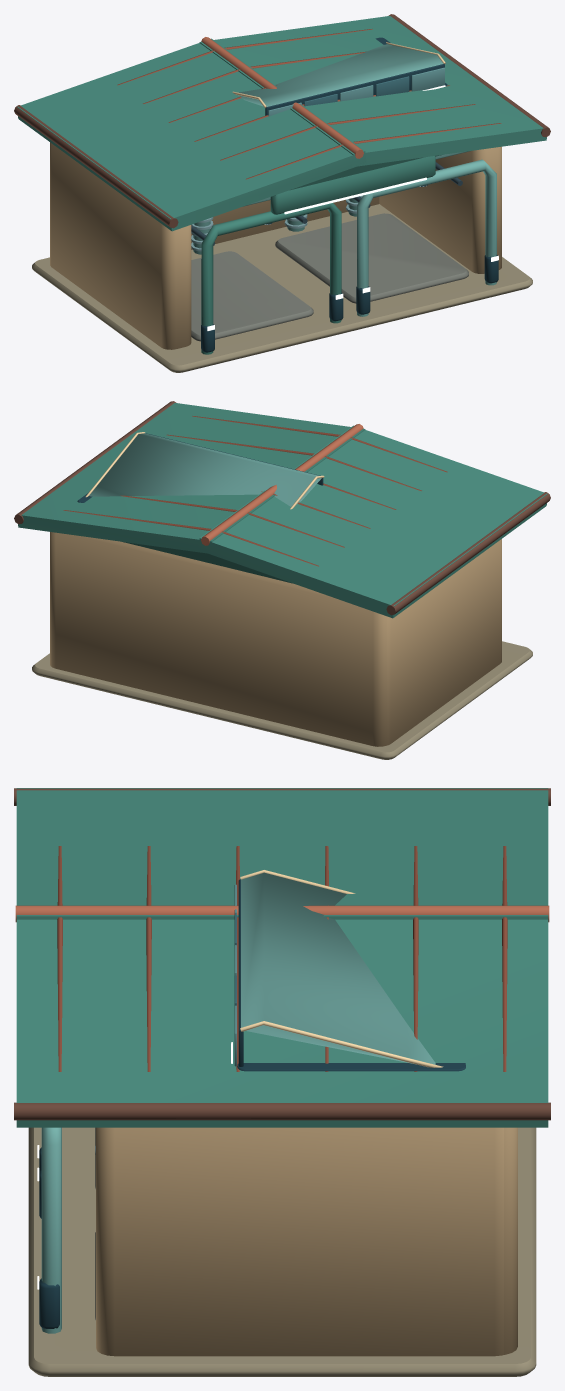
Rendered from tropical_wash.glb.
3 renders of one model, top to bottom at view 1: azimuth 30°, elevation 25°; view 2: azimuth 150°, elevation 25°; view 3: azimuth 270°, elevation 25°, orthographic. The views are drawn at different scales.
Parts seen in each view (by area): view 1: TropicalWash; view 2: TropicalWash; view 3: TropicalWash.
Part boxes in pixels (left/top/right/bottom): TropicalWash: left=14, top=14, right=550, bottom=372; TropicalWash: left=14, top=401, right=550, bottom=759; TropicalWash: left=14, top=788, right=550, bottom=1376.
Size of the model in its own units: 8.59 by 4.12 by 6.05.
